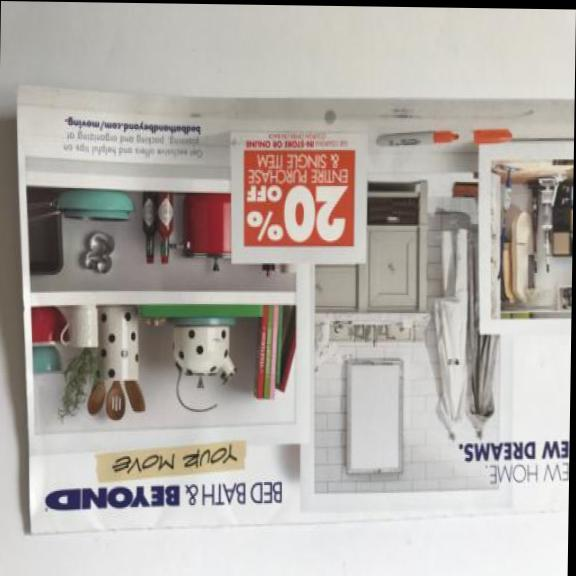Kertas: (8, 71, 575, 550)
